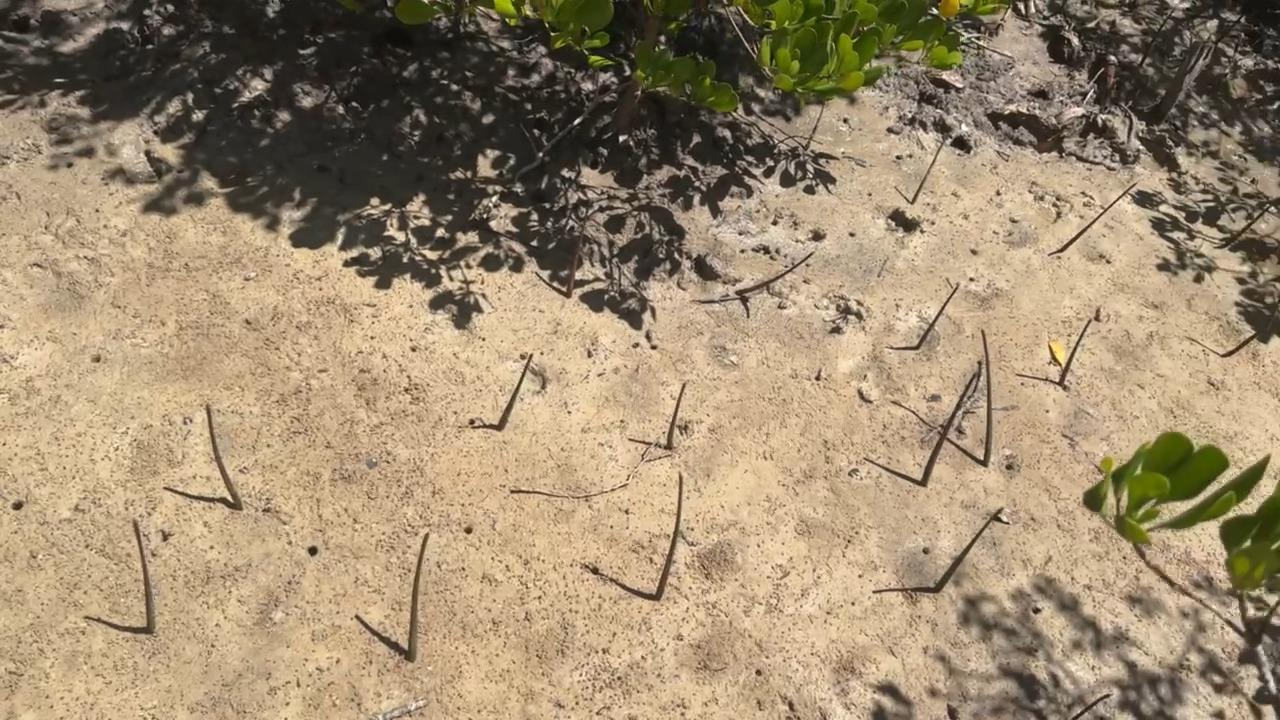Tree: (917, 369, 978, 488), (931, 506, 1006, 594), (1061, 181, 1141, 253), (204, 400, 245, 512), (652, 471, 683, 601), (734, 250, 817, 296), (406, 532, 431, 663), (1220, 305, 1280, 359), (130, 517, 157, 635), (914, 284, 962, 350), (497, 353, 534, 431), (909, 134, 948, 206), (1057, 316, 1094, 390), (1136, 8, 1174, 70), (1223, 203, 1274, 249), (979, 325, 995, 469), (564, 213, 587, 299), (665, 382, 688, 449), (804, 100, 826, 151), (1072, 693, 1112, 720)
